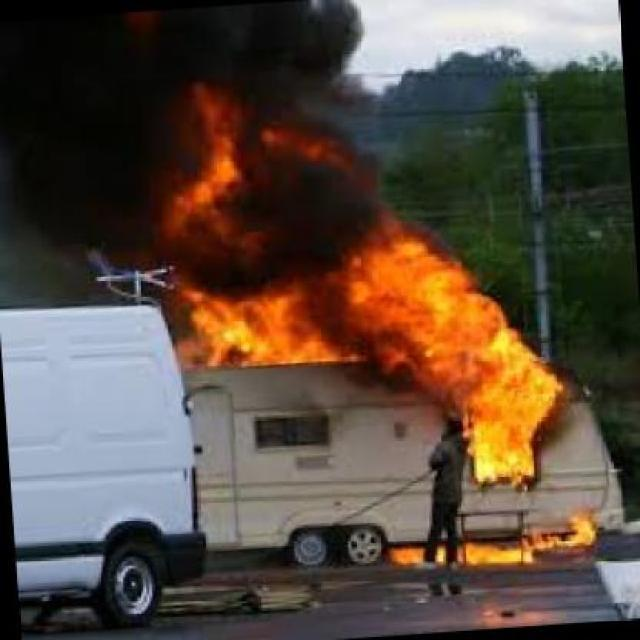Fire: (352, 227, 568, 482), (157, 273, 366, 376), (375, 524, 610, 568)
Smoke: (10, 0, 365, 235)
